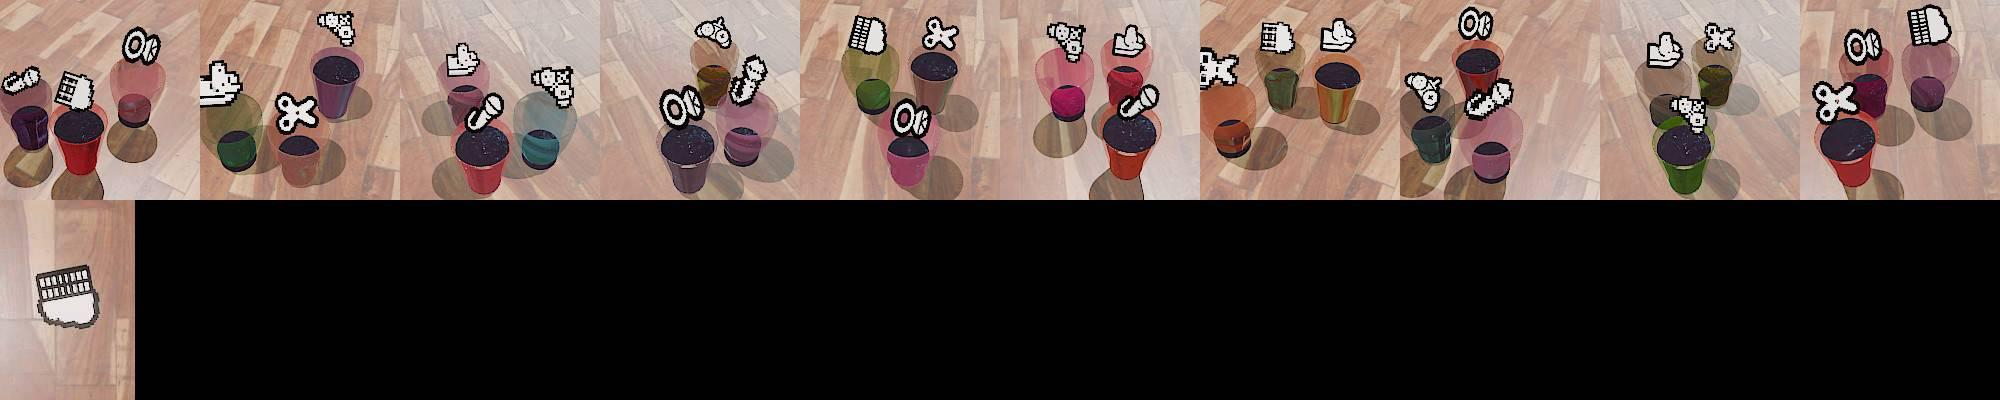icon: (34, 264, 102, 329), (1460, 76, 1515, 120), (198, 56, 242, 107), (727, 52, 767, 107), (1811, 80, 1858, 125), (274, 90, 320, 135), (658, 85, 705, 129), (532, 64, 577, 108), (1907, 4, 1953, 47), (889, 96, 932, 139), (54, 70, 96, 113), (1115, 83, 1158, 122), (1200, 48, 1240, 90), (1047, 19, 1087, 61), (847, 14, 886, 56), (1404, 71, 1444, 112), (466, 92, 505, 132), (1670, 94, 1709, 134), (1842, 27, 1883, 65), (121, 25, 159, 66), (316, 9, 355, 47), (1647, 31, 1684, 69), (922, 15, 959, 52), (445, 41, 481, 78), (694, 15, 733, 48), (1457, 5, 1492, 41), (1321, 17, 1357, 52), (1259, 20, 1296, 55), (0, 66, 42, 96), (1111, 23, 1147, 57), (1703, 22, 1737, 54)
